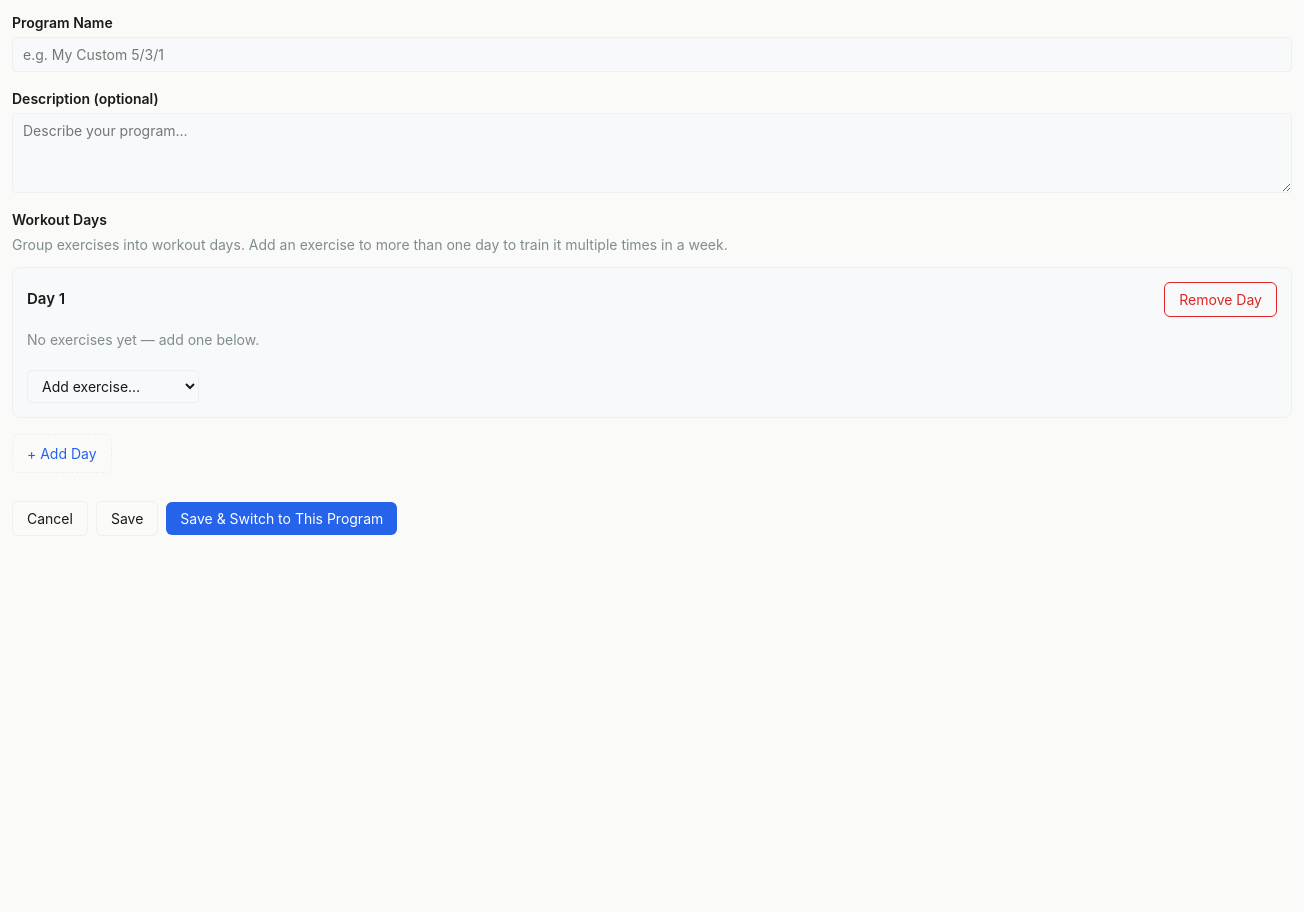
it: ProgramEditor — new instances seed from the configured weight increment › seeds a new exercise instance with the user-configured default
Select "Back Squat" in the dropdown named "Add exercise to Day 1" at (113, 386), box [27,370,199,403]
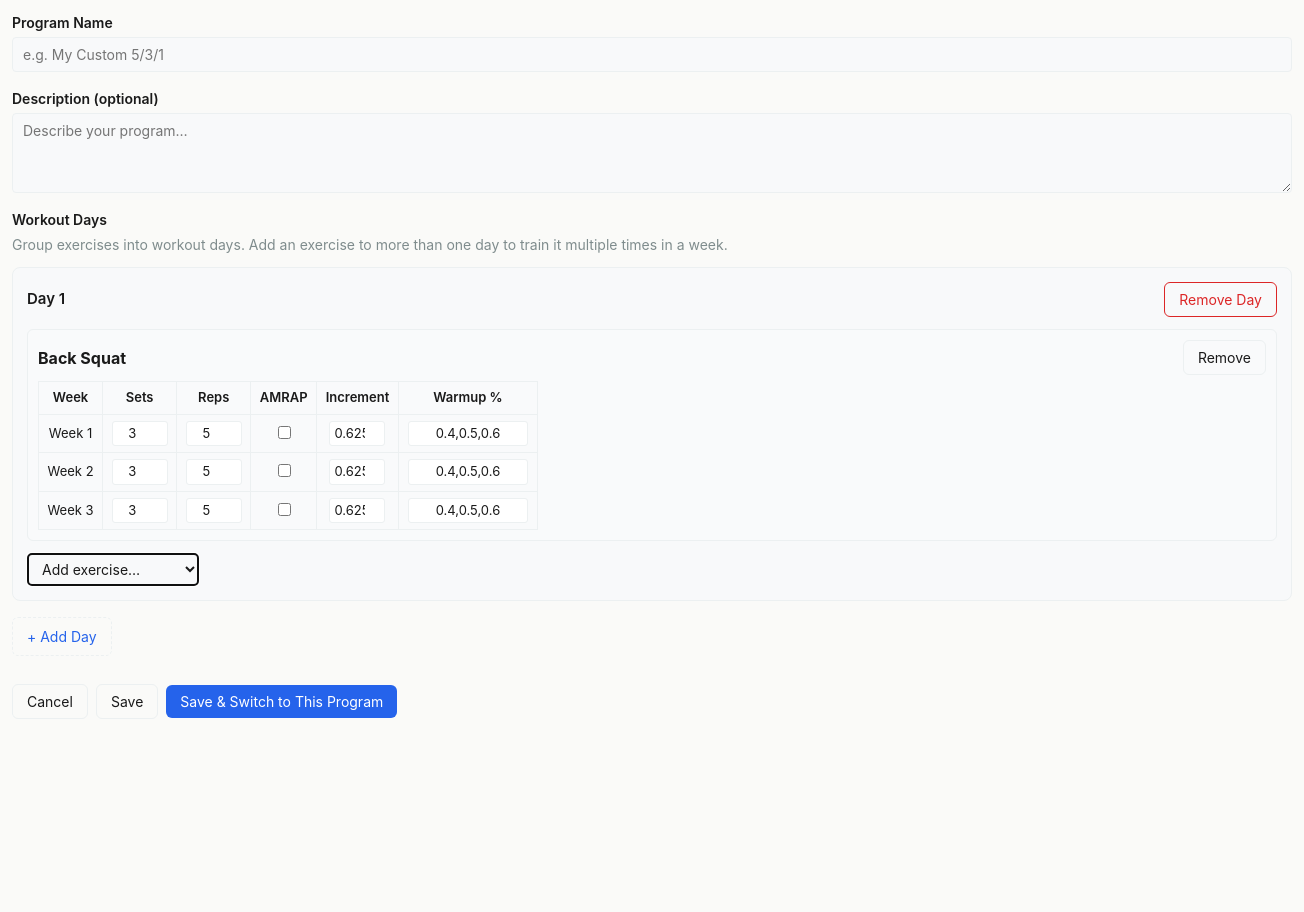
expect the number of number fields showing "0.625" is 3: met, box [330,420,386,446]; [330,459,386,484]; [330,498,386,523]
